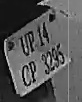1: (38, 26, 44, 46)
2: (47, 50, 55, 72)
3: (41, 54, 51, 75), (51, 48, 60, 68)
4: (42, 23, 50, 43)
5: (55, 43, 65, 65)
C: (20, 63, 32, 86)
P: (28, 59, 39, 82), (27, 32, 37, 53)
U: (18, 36, 30, 58)
